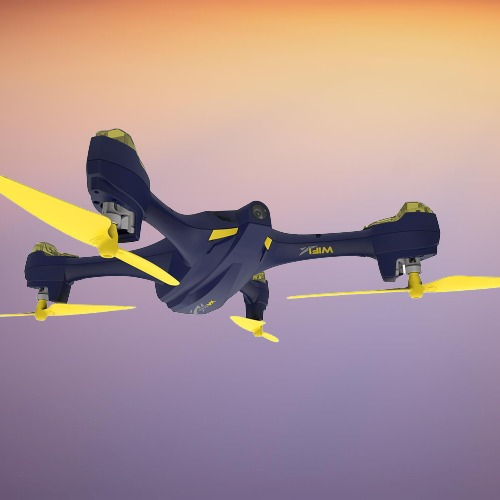drone: (0, 129, 500, 343)
